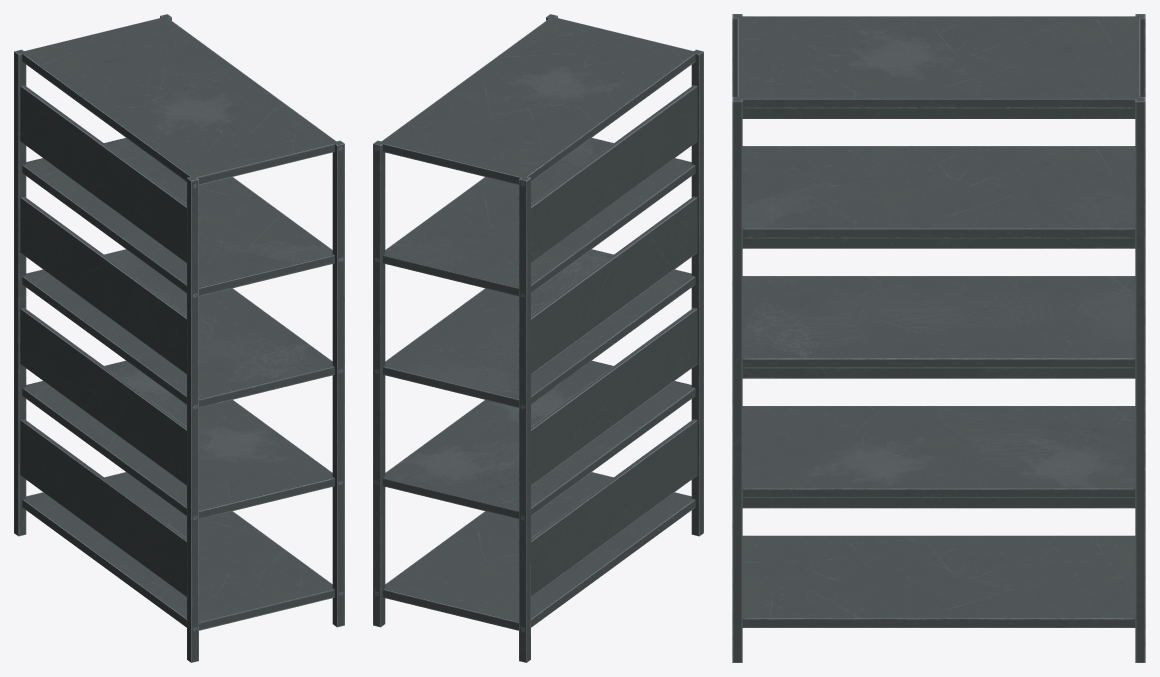
Rendered from Display Shelf.fbx.
The picture shows the model from 3 angles, left to right: view 1: azimuth 30°, elevation 25°; view 2: azimuth 150°, elevation 25°; view 3: azimuth 270°, elevation 25°; orthographic projection. The views are drawn at different scales.
Parts seen in each view (by area): view 1: Shelf LOW; view 2: Shelf LOW; view 3: Shelf LOW.
Part boxes in pixels (box(x1,y1,x2,y2)): Shelf LOW: box(14, 14, 344, 662); Shelf LOW: box(373, 14, 703, 662); Shelf LOW: box(732, 14, 1145, 662).
Bounding box in the file's own units: 200 × 600 × 400.
